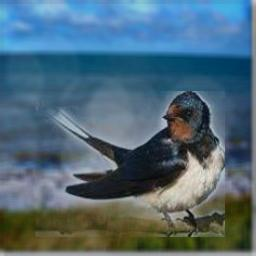Swallow: (35, 91, 225, 237)
